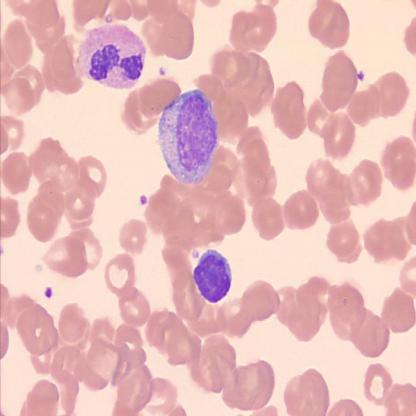Myelocyte: (160, 95, 217, 188), (76, 25, 146, 87)
